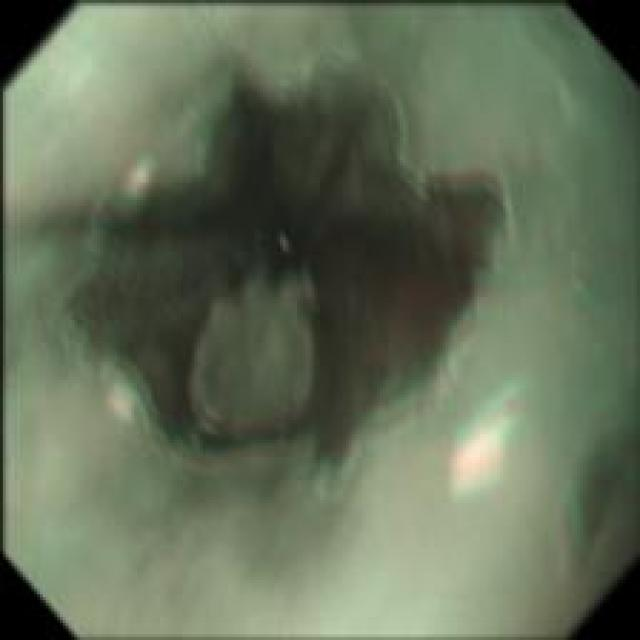blur: (1, 1, 638, 638)
color misalignment: (448, 379, 522, 511), (392, 150, 511, 221), (166, 430, 311, 476), (92, 354, 164, 441), (435, 268, 484, 392), (355, 382, 439, 442), (318, 430, 356, 506), (119, 151, 161, 205), (272, 222, 299, 261)
contrast: (118, 70, 485, 449)
